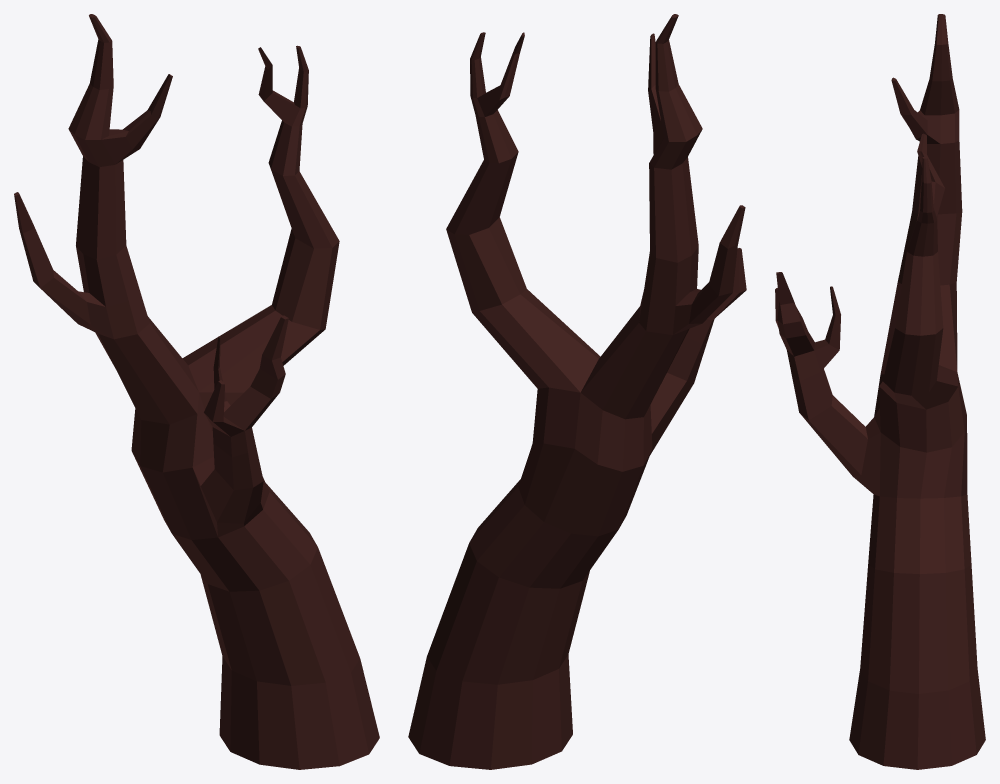
File: Tree9b.fbx
The picture shows the model from 3 angles, left to right: view 1: azimuth 30°, elevation 25°; view 2: azimuth 150°, elevation 25°; view 3: azimuth 270°, elevation 25°; orthographic projection. The views are drawn at different scales.
Parts seen in each view (by area): view 1: Tree9.001; view 2: Tree9.001; view 3: Tree9.001.
Boxes of the visible parts, x1,y1,x2,y2 form: Tree9.001: (14, 14, 379, 769); Tree9.001: (408, 14, 746, 769); Tree9.001: (775, 14, 985, 769).
Size of the model in its own units: 995 by 2149 by 636.
